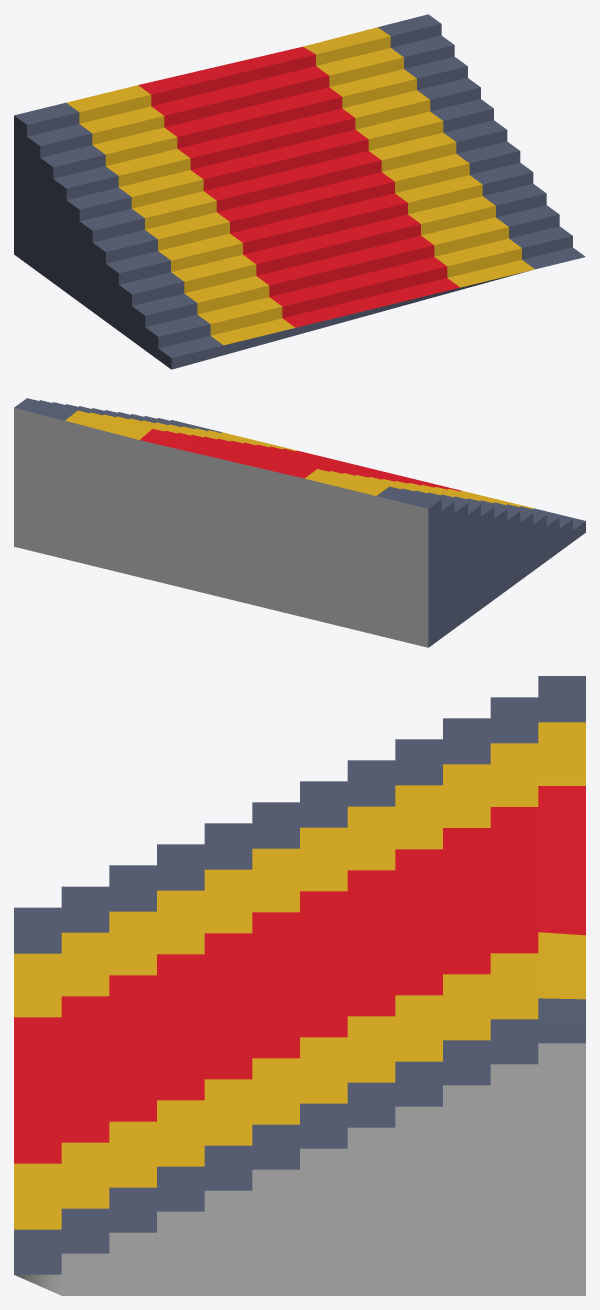
File: Escalera_Jaume.fbx
3 renders of one model, top to bottom at view 1: azimuth 30°, elevation 25°; view 2: azimuth 150°, elevation 25°; view 3: azimuth 270°, elevation 25°, orthographic. The views are drawn at different scales.
Visible parts, largest first — view 1: Stairs (1); view 2: Stairs (1); view 3: Stairs (1).
Part boxes in pixels (<box>): Stairs (1): <box>14,14,585,369</box>; Stairs (1): <box>14,398,585,647</box>; Stairs (1): <box>14,676,585,1295</box>.
Size of the model in its own units: 212 by 68.07 by 140.
